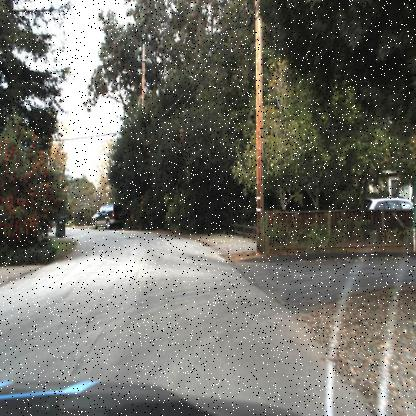car: (359, 193, 415, 238), (93, 198, 127, 234)
